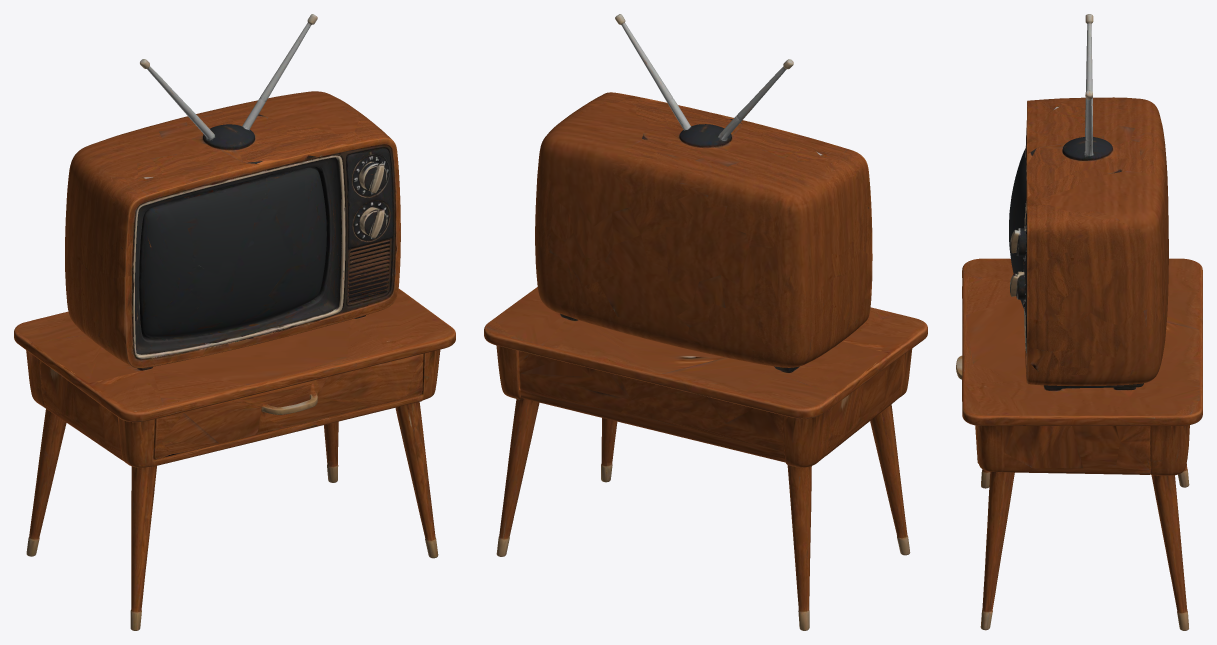
The picture shows the model from 3 angles, left to right: view 1: azimuth 30°, elevation 25°; view 2: azimuth 150°, elevation 25°; view 3: azimuth 270°, elevation 25°; orthographic projection. The views are drawn at different scales.
Visible parts, largest first — view 1: Mesh_0; view 2: Mesh_0; view 3: Mesh_0.
Boxes of the visible parts, x1,y1,x2,y2 form: Mesh_0: (14,14,455,630); Mesh_0: (484,14,927,630); Mesh_0: (956,14,1202,630).
Bounding box in the file's own units: 0.6745 × 1 × 0.4416.
Materials: 1 (1 with a texture image).
